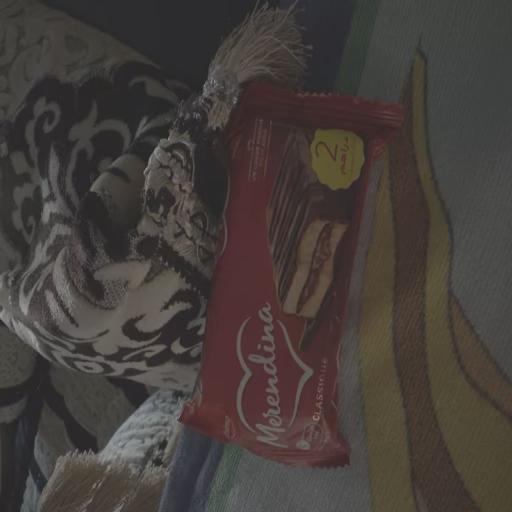merendina: (196, 86, 393, 489)
